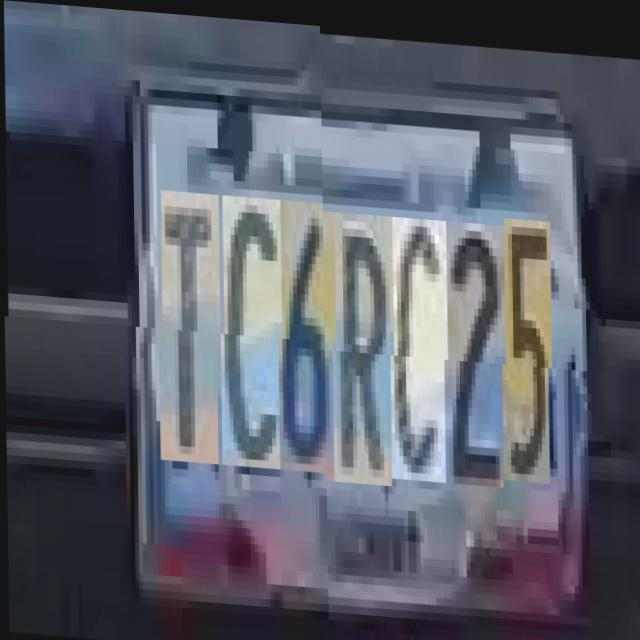2: (446, 213, 506, 480)
5: (503, 210, 553, 474)
6: (280, 203, 336, 476)
C: (222, 199, 282, 473), (392, 210, 448, 475)
R: (334, 206, 394, 480)
T: (160, 195, 221, 469)
